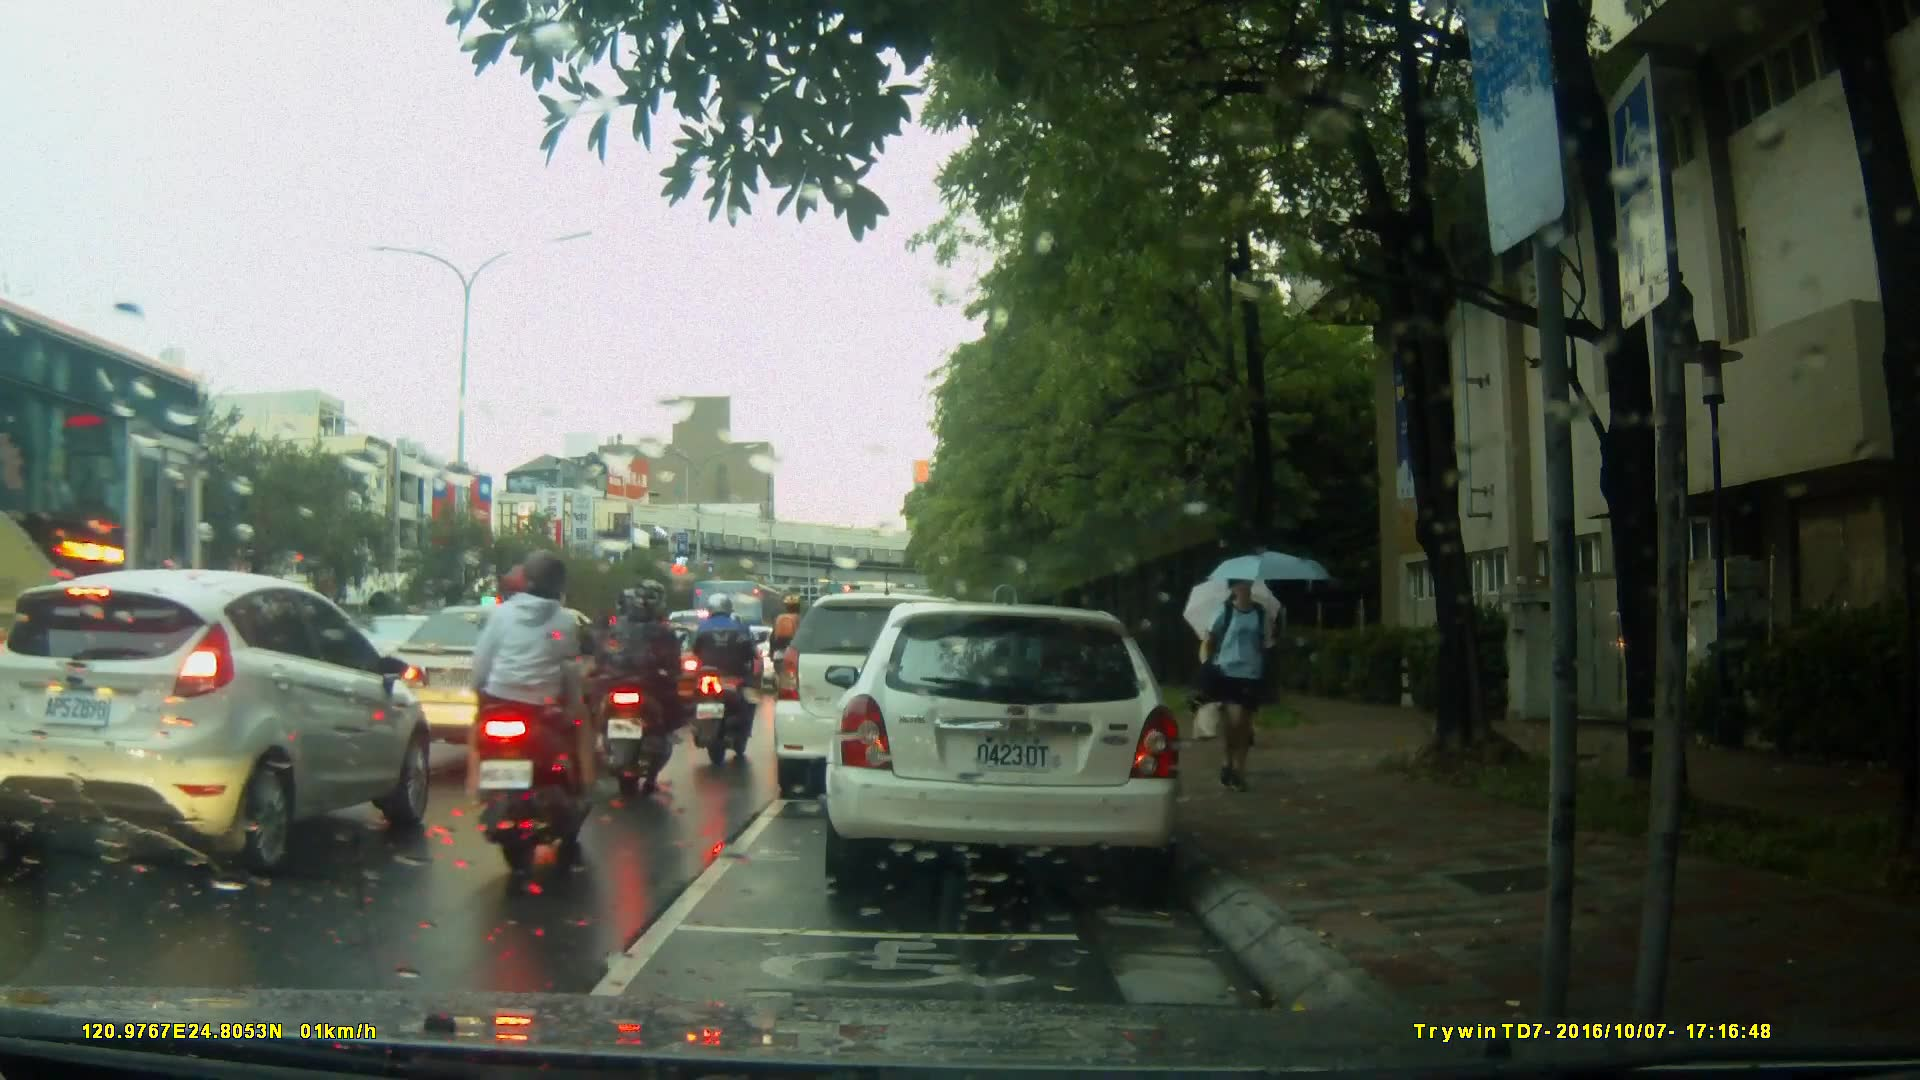pedestrian: (1198, 558, 1282, 807), (1229, 594, 1278, 746)
rider: (460, 537, 616, 884), (611, 587, 693, 795), (694, 588, 762, 759), (773, 592, 816, 749)
vehicle: (3, 567, 438, 879), (835, 594, 1194, 898), (1, 289, 216, 765), (776, 590, 1026, 784), (374, 602, 638, 770), (602, 620, 727, 719), (692, 578, 807, 672)
